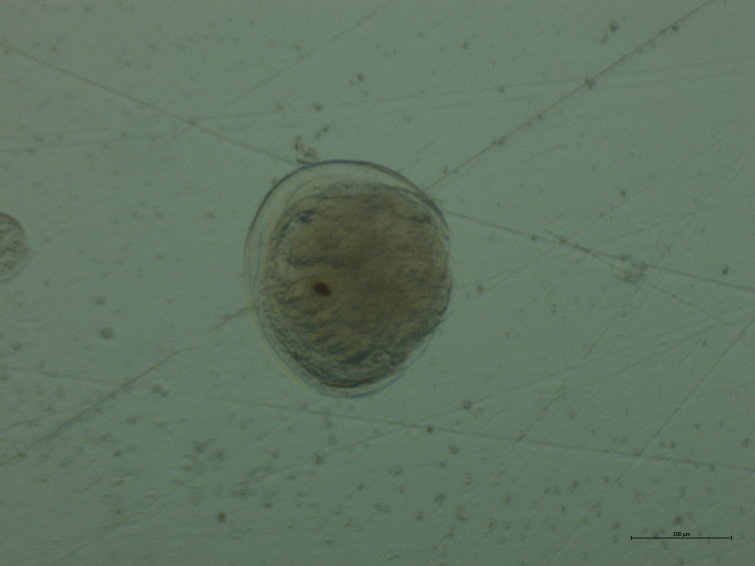oyster: (226, 148, 469, 409)
